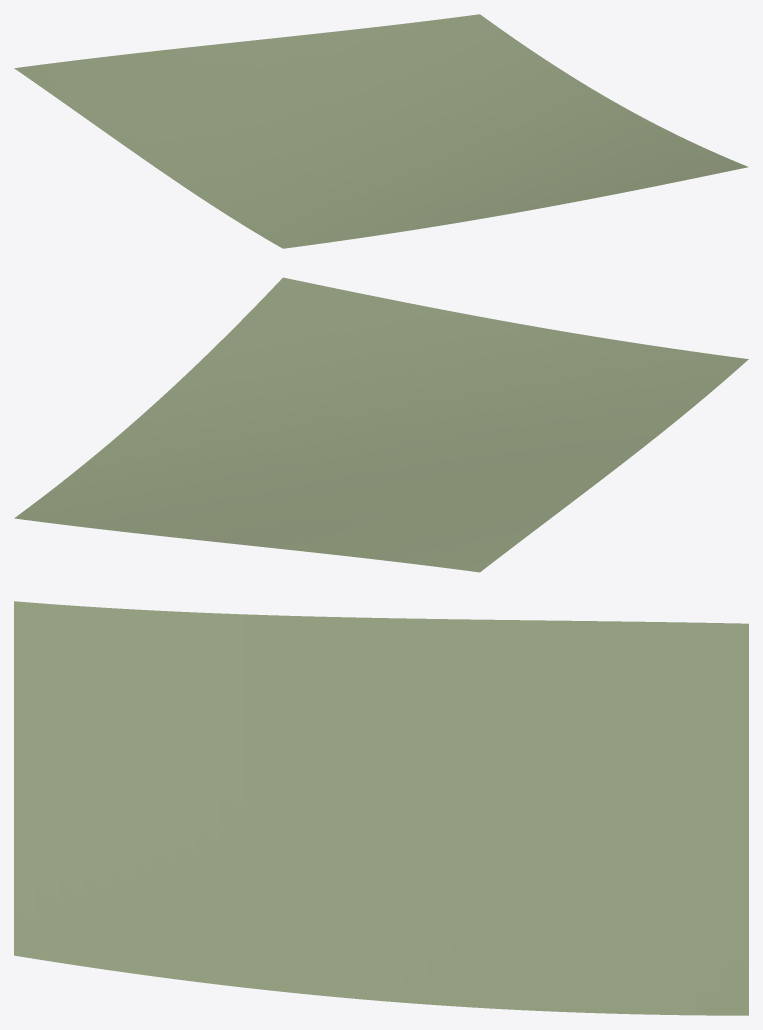
The model's file is alpine-14-4.glb.
3 views of the same model, one above another, from view 1: azimuth 30°, elevation 25°; view 2: azimuth 150°, elevation 25°; view 3: azimuth 270°, elevation 25° (orthographic). The views are drawn at different scales.
Visible parts, largest first — view 1: alpine-14-4; view 2: alpine-14-4; view 3: alpine-14-4.
Boxes of the visible parts, x1,y1,x2,y2 form: alpine-14-4: [14, 14, 748, 248]; alpine-14-4: [14, 277, 748, 572]; alpine-14-4: [14, 601, 748, 1015].
Size of the model in its own units: 256 by 39.92 by 256.
